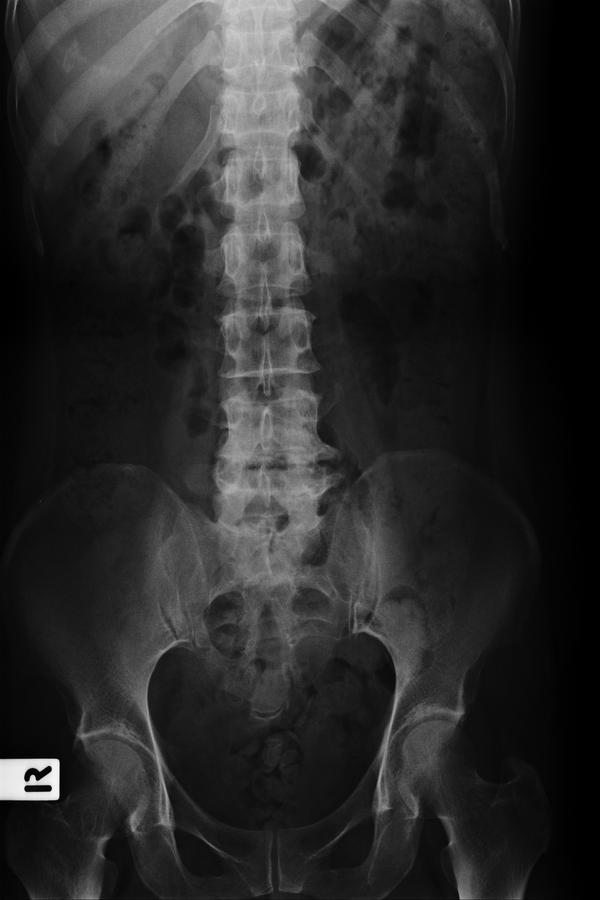lumbar scoliosis: (204, 6, 336, 570)
